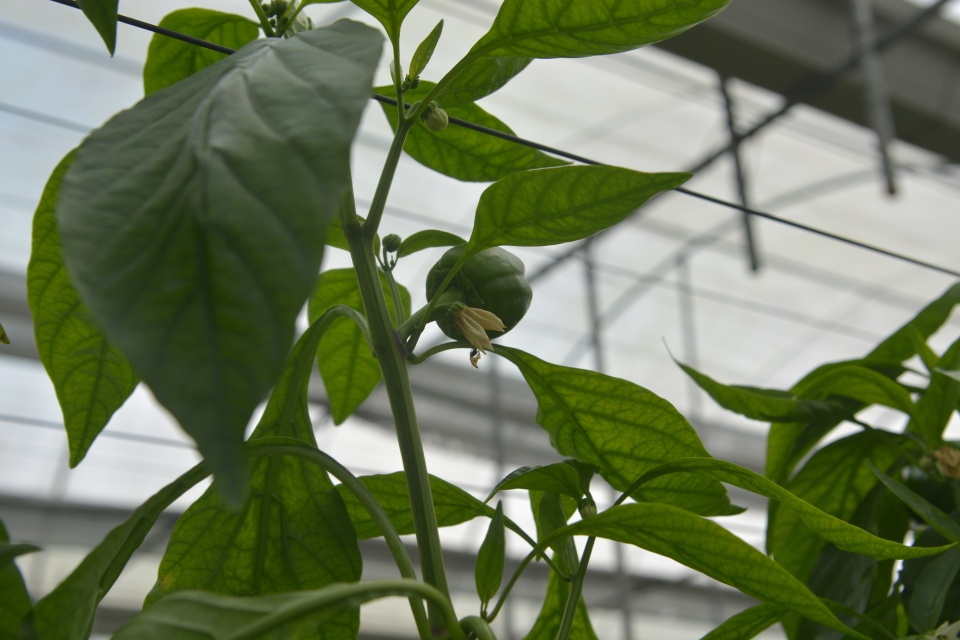flower: (450, 303, 512, 356)
immature: (421, 241, 535, 346)
